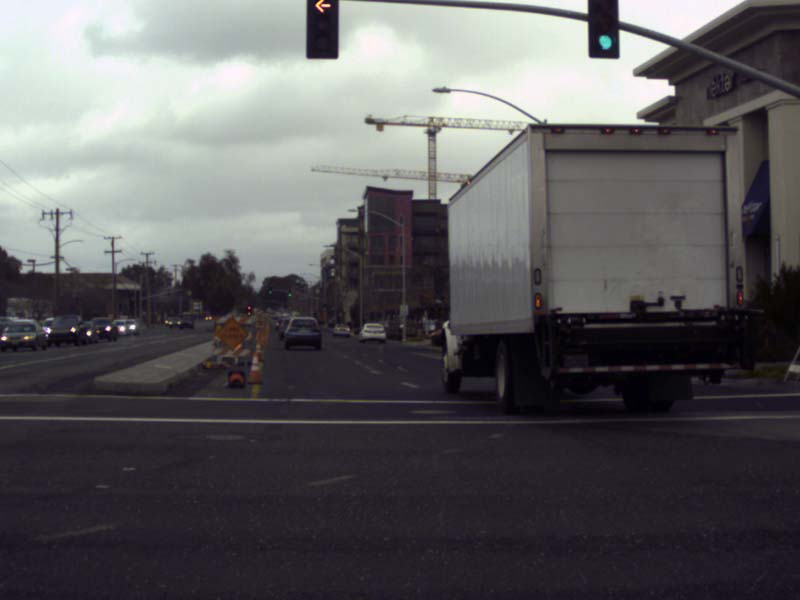Green: (323, 303, 326, 310), (288, 289, 290, 296), (269, 286, 271, 293)
Red: (247, 306, 251, 314)
